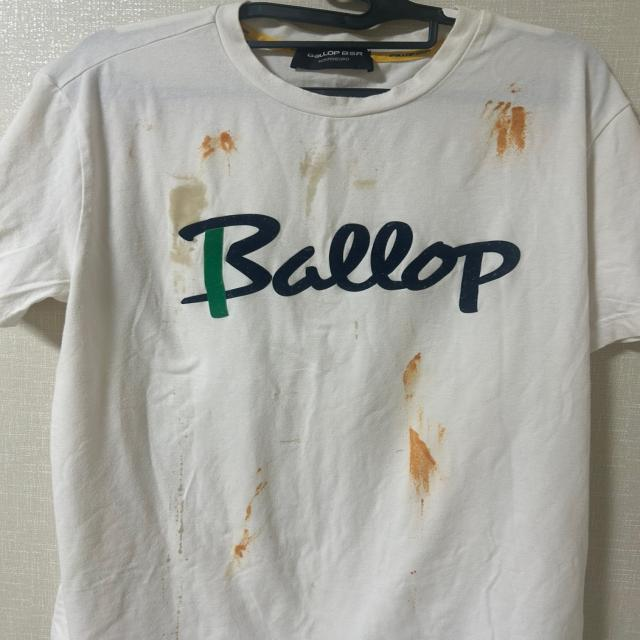stain: (164, 178, 204, 270), (484, 98, 538, 156), (407, 425, 443, 509), (287, 150, 335, 211), (174, 456, 196, 559), (231, 514, 262, 559), (197, 130, 239, 162), (168, 594, 196, 640), (248, 472, 272, 519), (404, 356, 425, 402), (509, 69, 533, 102), (352, 170, 383, 195), (419, 406, 433, 432), (404, 570, 426, 581), (406, 637, 418, 640)
